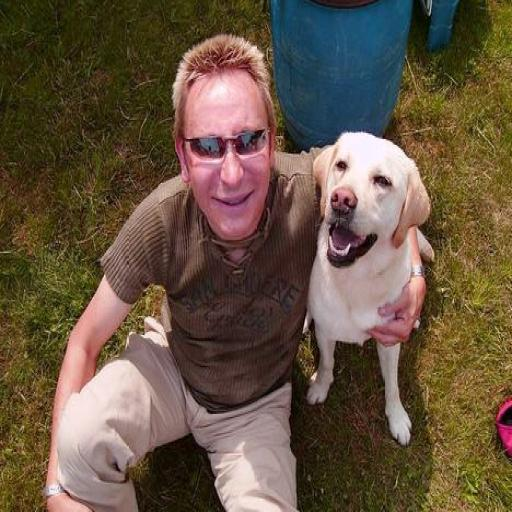dog_face: (315, 131, 425, 263)
